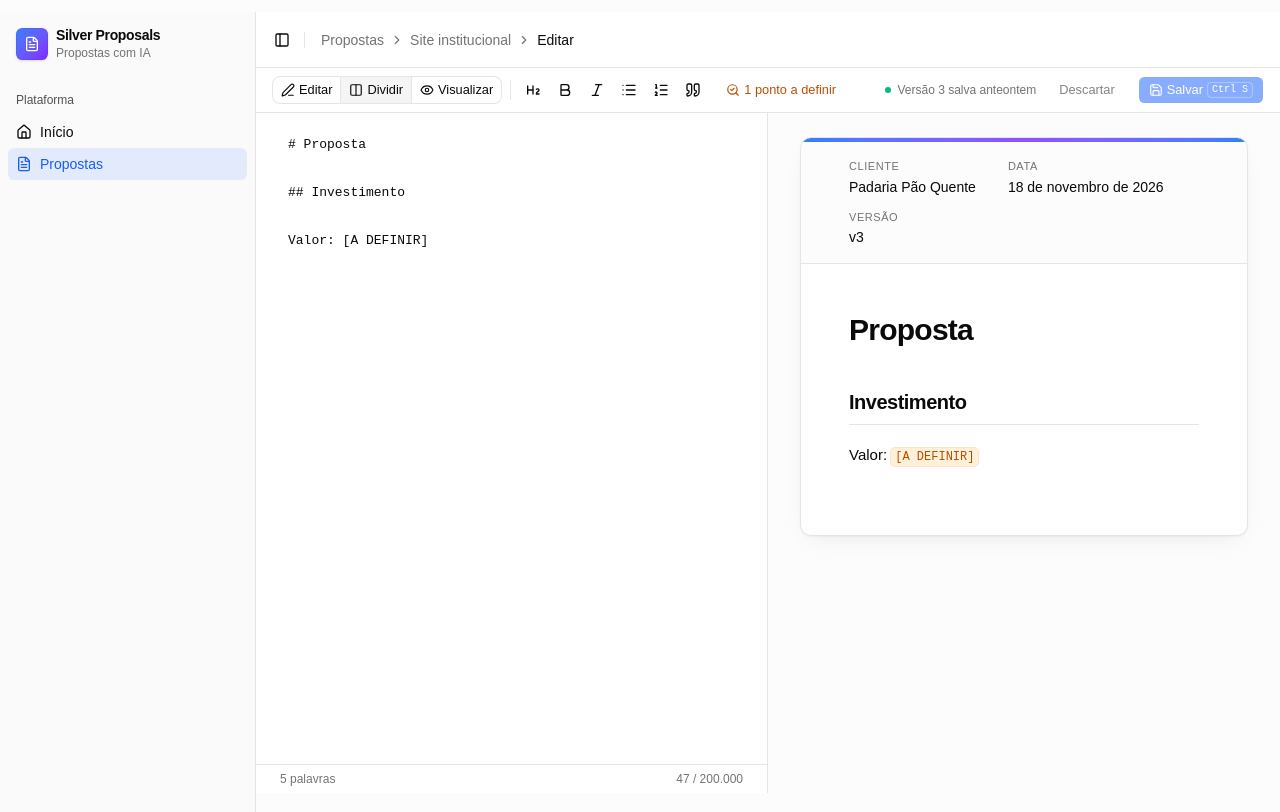
Test case: ProposalEditorPage › shows the API error when saving fails
Step 1. Type "!" into the text box named "Conteúdo em Markdown" → (512, 438), box [256, 113, 767, 764]
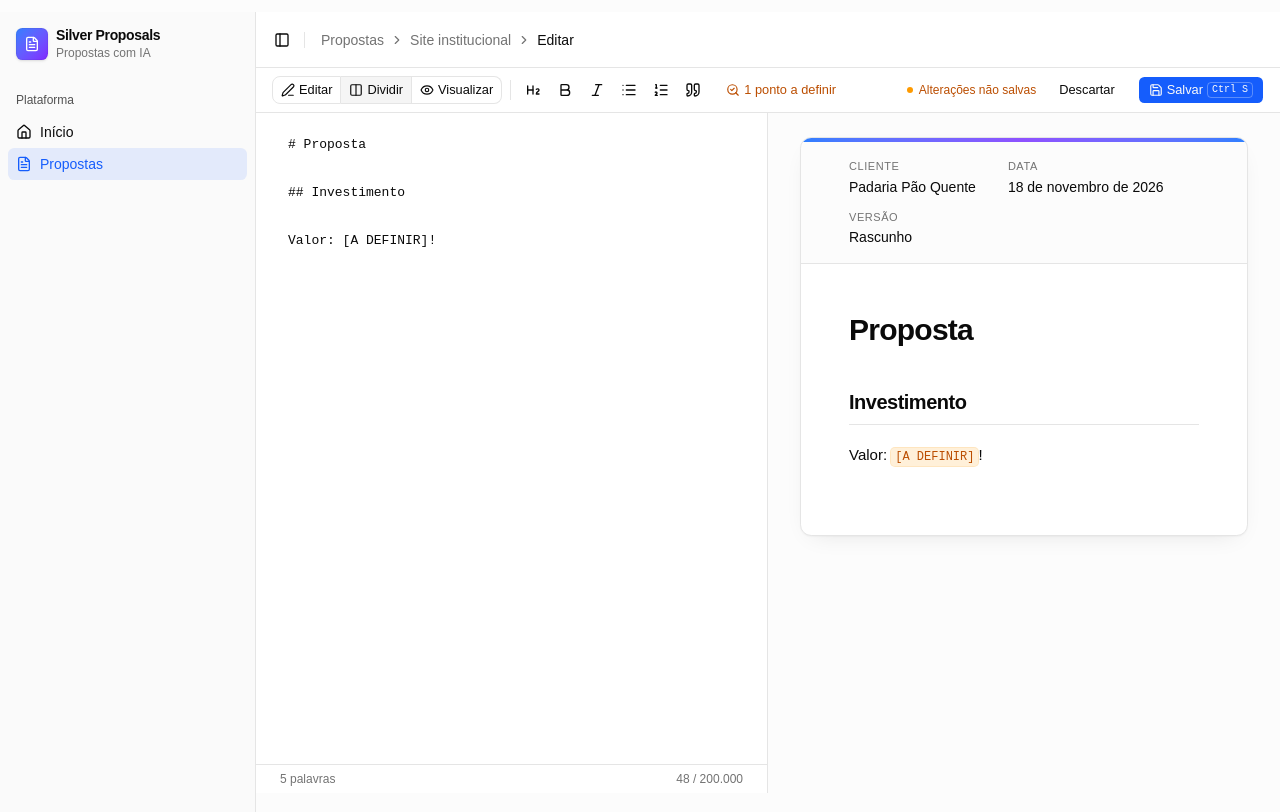
Step 2. Click the button "Salvar Ctrl S" → (1201, 90), box [1138, 76, 1264, 104]
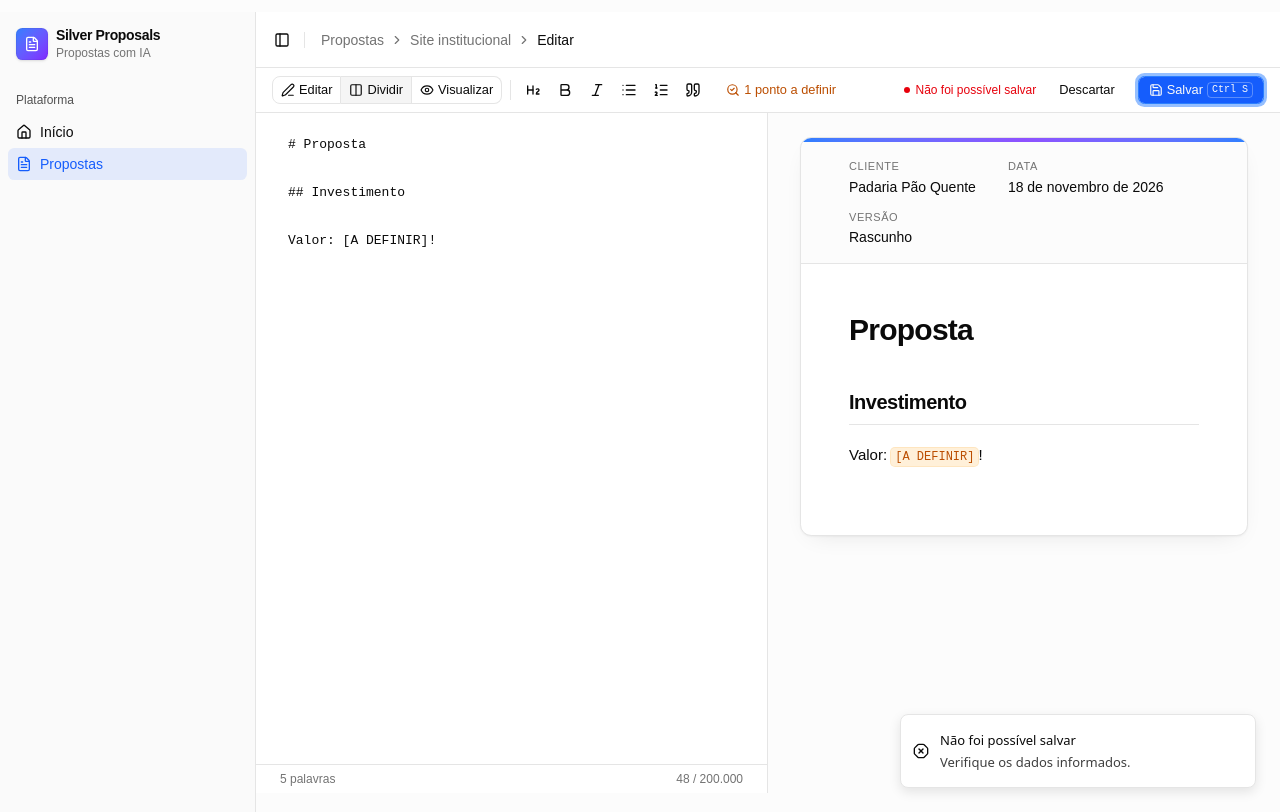
Expected: the text "Verifique os dados informados." is shown, [940, 753, 1130, 771]
Expected: the text "Não foi possível salvar" is shown, [904, 82, 1036, 98]
